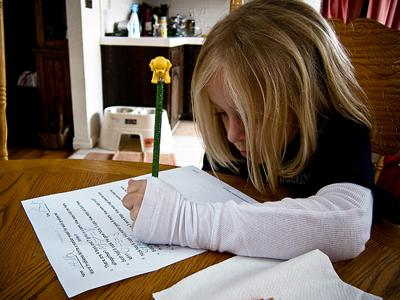person: (128, 2, 376, 263)
